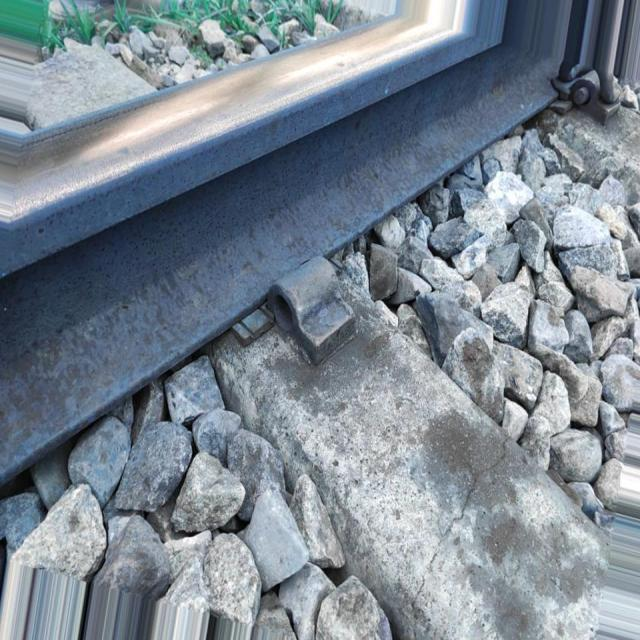Missing Fastener: (250, 225, 359, 370)
